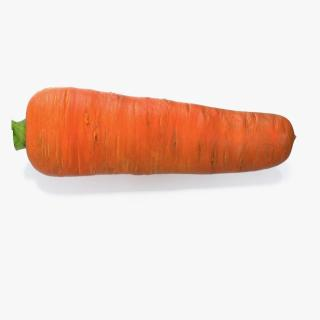carrot: (10, 79, 296, 177)
